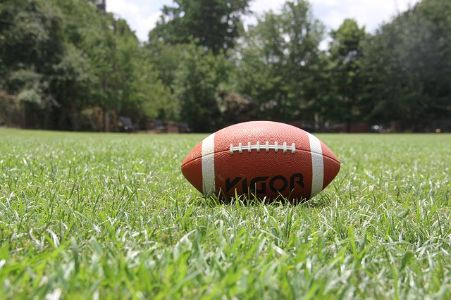futbol americano: (180, 120, 341, 209)
